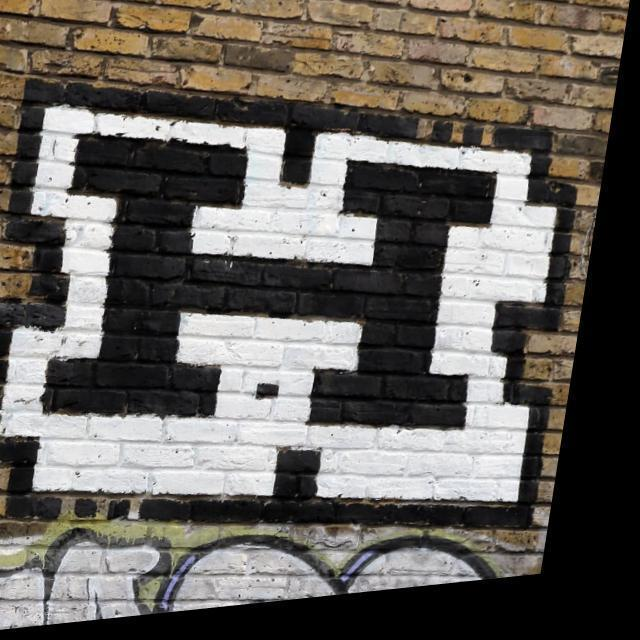nonspitting: (3, 80, 580, 525)
